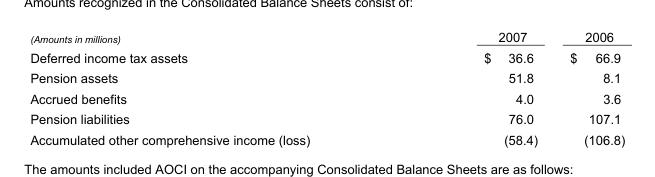table: (29, 29, 624, 146)
table column: (29, 29, 396, 146), (396, 29, 553, 146), (553, 29, 624, 146)
table column header: (29, 29, 624, 47)
table row: (29, 67, 624, 88), (29, 47, 624, 67), (29, 88, 624, 108), (29, 108, 624, 128), (29, 29, 624, 47), (29, 128, 624, 146)
